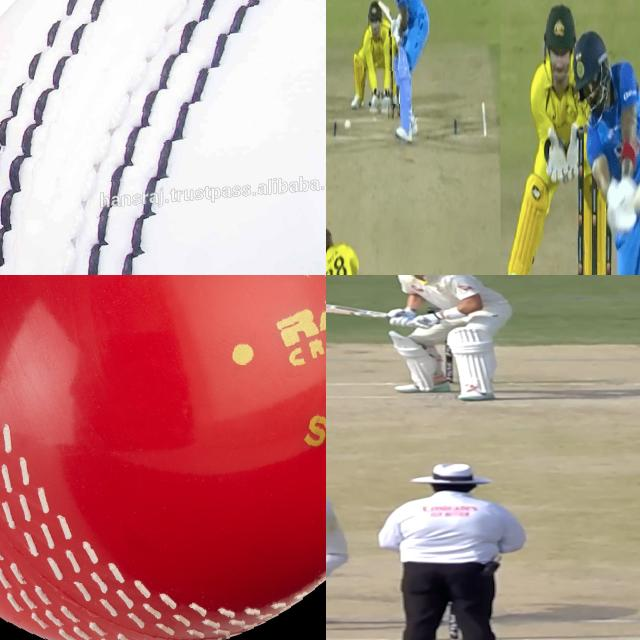Cricket ball: (0, 275, 326, 640), (0, 0, 326, 275)
Stumps: (574, 122, 612, 275), (386, 20, 400, 124)
